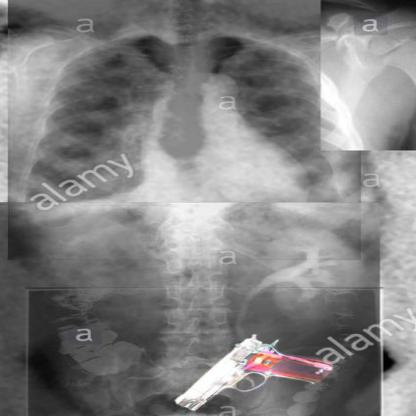gun: (168, 334, 340, 415)
